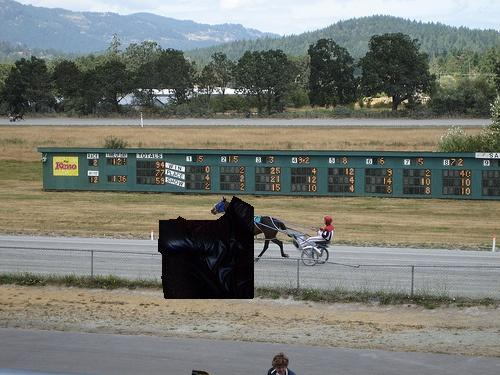tampered: (159, 197, 254, 299)
